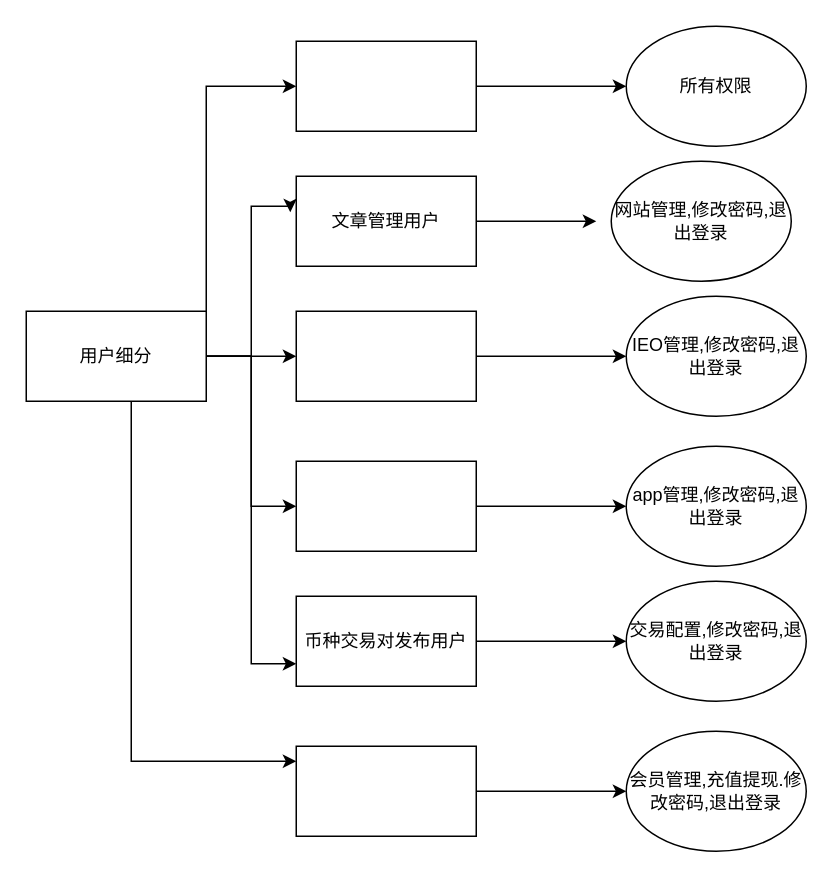
Image size: 833x878. Some labels were removed from this diagram. Each missing label, with the centre of its shape:
"app发布用户" belongs at pixel 385 505.
"IEO超级用户" belongs at pixel 385 355.
"资产管理审核用户" belongs at pixel 385 790.
"超级管理员" belongs at pixel 385 85.
